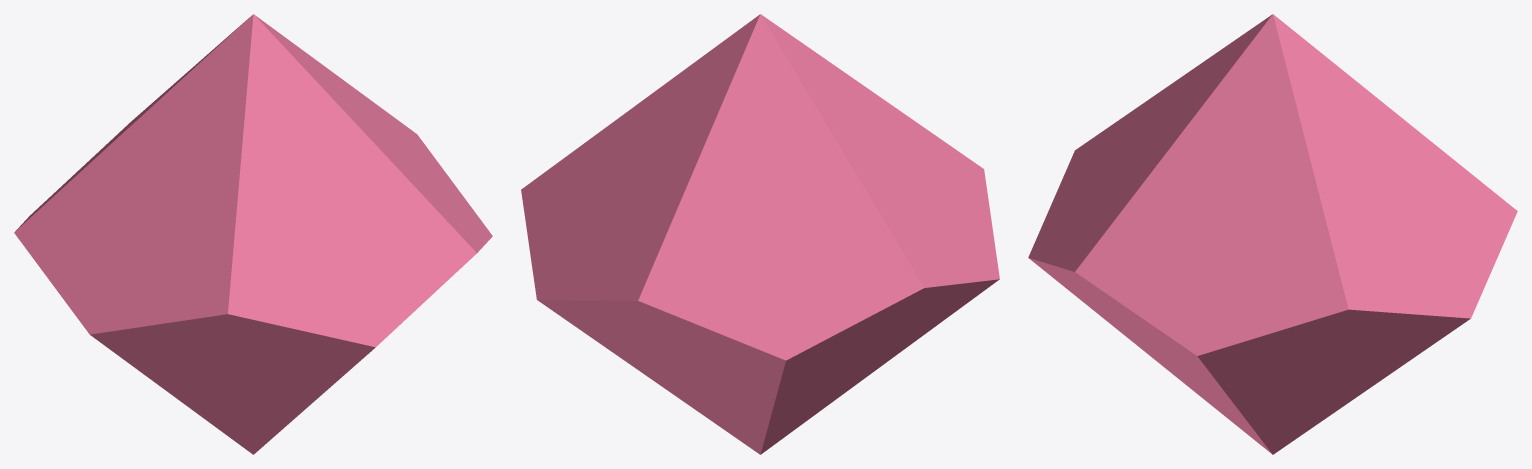
3 renders of one model, left to right at view 1: azimuth 30°, elevation 25°; view 2: azimuth 150°, elevation 25°; view 3: azimuth 270°, elevation 25°, orthographic.
Visible parts, largest first — view 1: DieMesh; view 2: DieMesh; view 3: DieMesh.
Boxes of the visible parts, <box> form: DieMesh: <box>14,14,492,454</box>; DieMesh: <box>521,14,999,454</box>; DieMesh: <box>1028,14,1517,454</box>.
Bounding box in the file's own units: 1.91 × 2 × 2.01.
